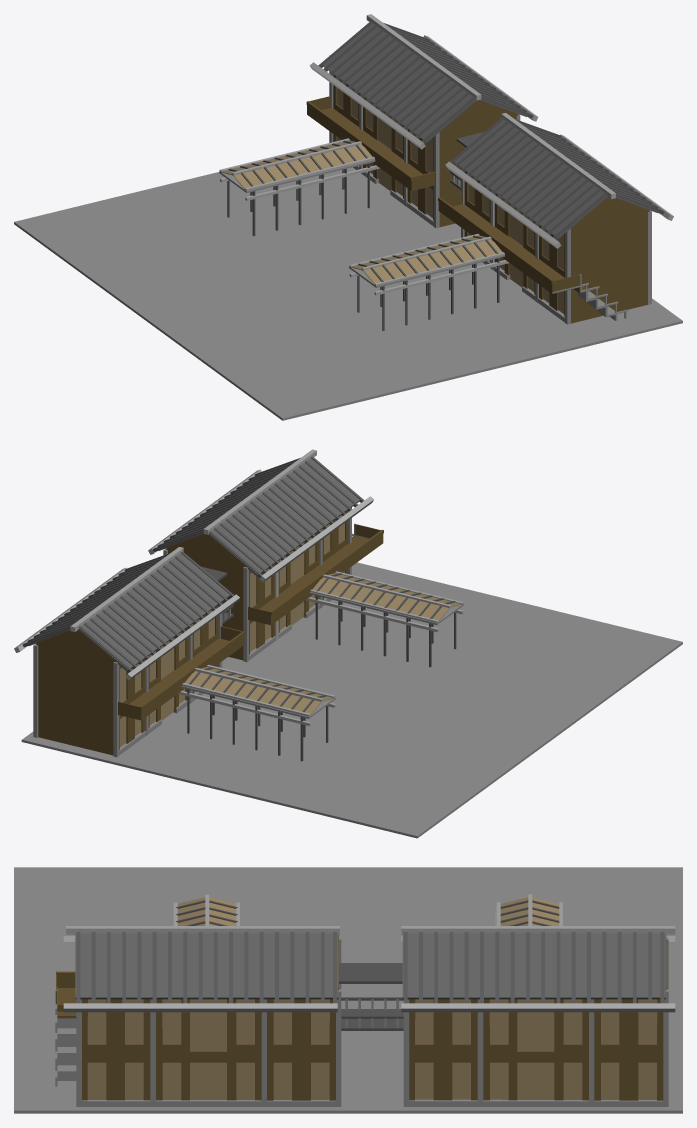
Rendered from HACIENDA.fbx.
The picture shows the model from 3 angles, top to bottom: view 1: azimuth 30°, elevation 25°; view 2: azimuth 150°, elevation 25°; view 3: azimuth 270°, elevation 25°; orthographic projection. The views are drawn at different scales.
Parts seen in each view (by area): view 1: pCube124, polySurface166, polySurface132, polySurface82, polySurface86, polySurface134, polySurface167, polySurface107, polySurface3, pCube25, pCube62, polySurface173 (+10 smaller); view 2: pCube124, pCube24, polySurface82, polySurface132, polySurface134, polySurface86, polySurface167, polySurface107, polySurface3, polySurface178, polySurface173, pCube62 (+10 smaller); view 3: pCube124, polySurface101, polySurface151, polySurface3, pCube61, polySurface164, polySurface168, polySurface107, polySurface134, polySurface86, pCube21, pCube26 (+15 smaller).
Part boxes in pixels (x1,y1,x2,y2): pCube124: (14, 167, 682, 420); polySurface166: (571, 197, 649, 323); polySurface132: (454, 119, 607, 238); polySurface82: (322, 23, 476, 142); polySurface86: (318, 21, 532, 143); polySurface134: (450, 117, 664, 239); polySurface167: (438, 171, 585, 316); polySurface107: (309, 14, 673, 248); polySurface3: (306, 75, 434, 220); pCube25: (439, 100, 518, 227); pCube62: (337, 79, 432, 217); polySurface173: (469, 176, 564, 313); pCube124: (21, 562, 682, 838); pCube24: (36, 630, 116, 755); polySurface82: (78, 553, 230, 671); polySurface132: (208, 458, 359, 576); polySurface134: (152, 456, 364, 577); polySurface86: (22, 551, 234, 672); polySurface167: (248, 510, 383, 654); polySurface107: (14, 449, 373, 680); polySurface3: (118, 605, 244, 749); polySurface178: (166, 534, 246, 660); polySurface173: (250, 515, 344, 651); pCube62: (120, 610, 214, 746); pCube124: (14, 867, 682, 1113); polySurface101: (402, 933, 665, 999); polySurface151: (75, 933, 338, 999); polySurface3: (409, 999, 663, 1100); pCube61: (415, 999, 657, 1099); polySurface164: (87, 999, 329, 1099); polySurface168: (82, 999, 335, 1100); polySurface107: (63, 926, 675, 1012); polySurface134: (76, 932, 336, 1003); polySurface86: (403, 932, 664, 1003); pCube21: (403, 989, 668, 1106); pCube26: (409, 1099, 663, 1106).
Size of the model in its own units: 35.83 by 10.71 by 40.53.
